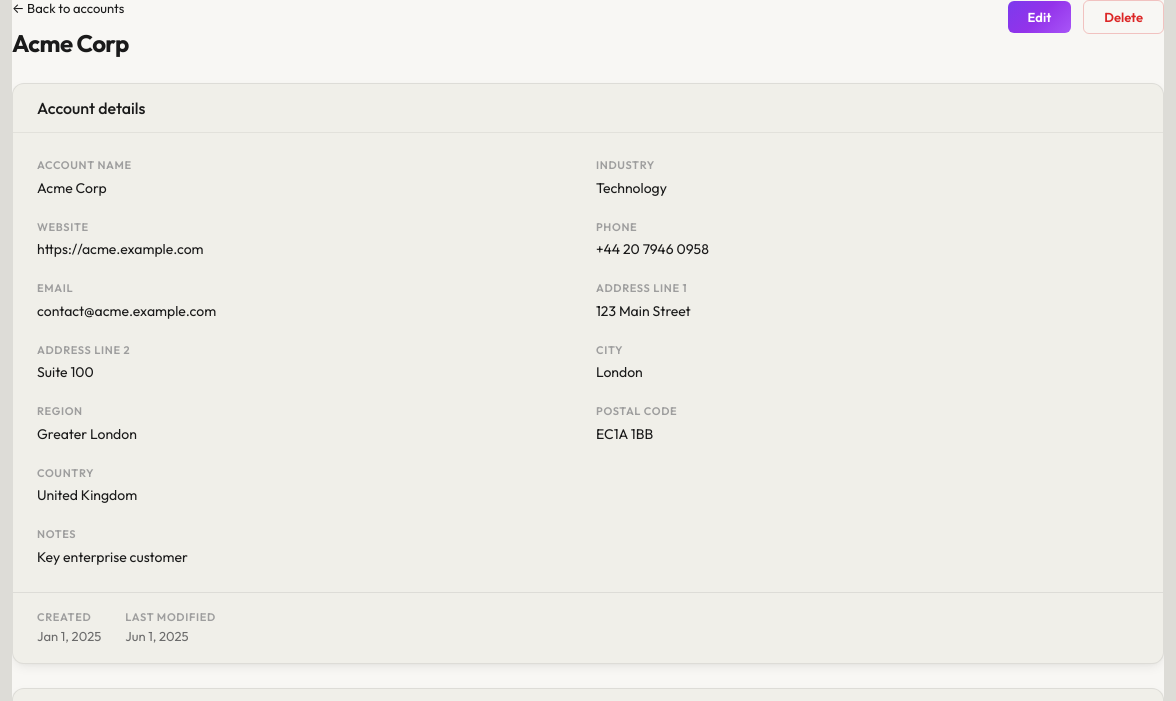
AccountDetailPage › switches to edit mode when Edit is clicked
Step 1. Click the button "Edit" → (1039, 17), box [1008,1,1071,33]
(page scrolled)
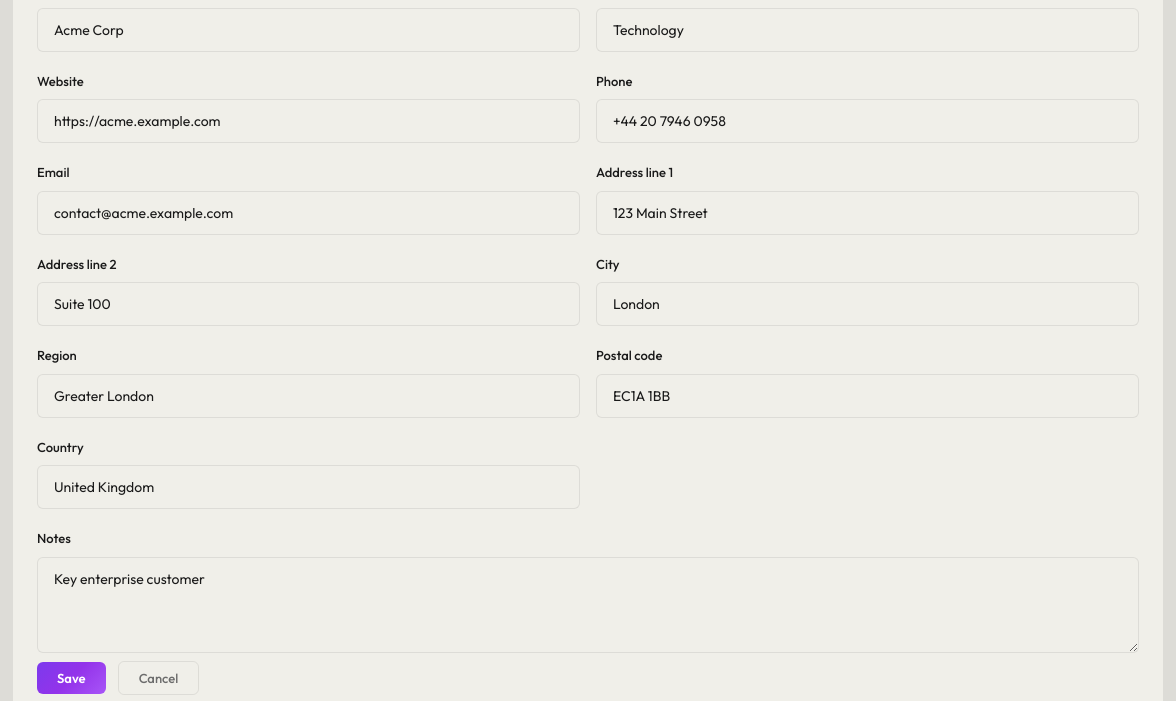
Expected: the field labelled "Account name *" is shown, [37,8,580,52]
Expected: the button "Save" is shown, [37,662,106,694]
Expected: the button "Cancel" is shown, [118,661,199,695]
